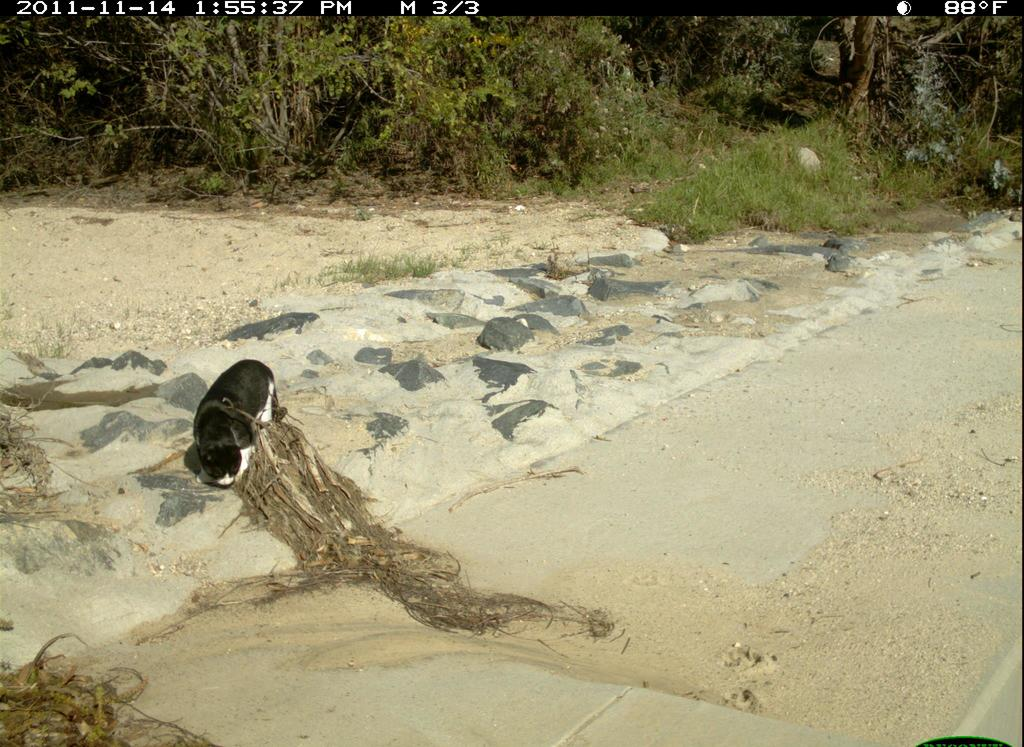cat: (190, 356, 292, 491)
